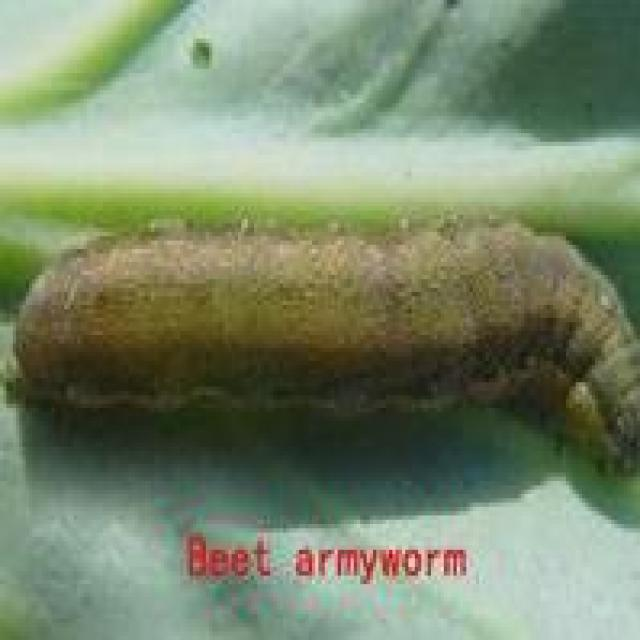BeetArmyWorm-Larva-: (11, 208, 637, 471)
